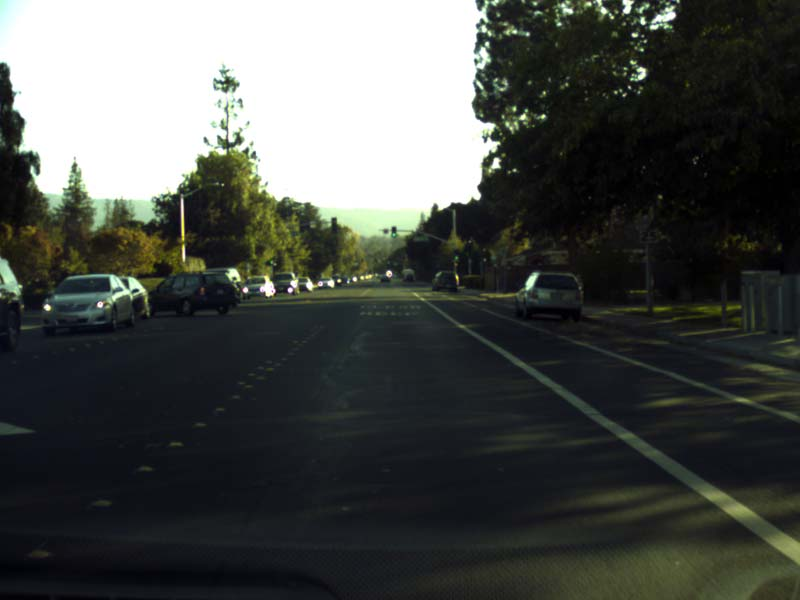Green: (453, 249, 459, 261), (390, 226, 396, 237)
